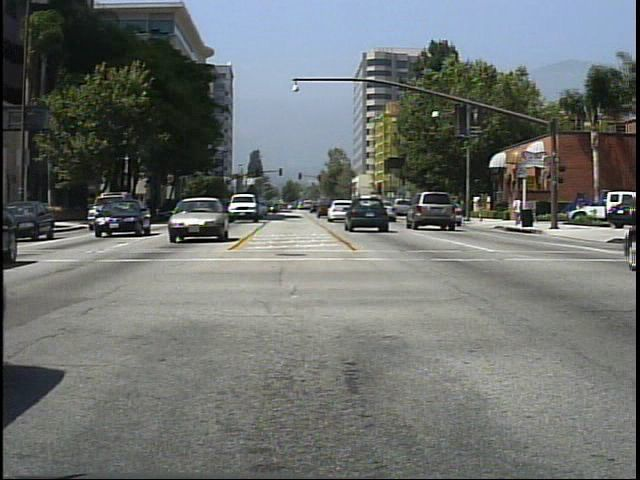person: (509, 193, 524, 229), (475, 192, 487, 224)
